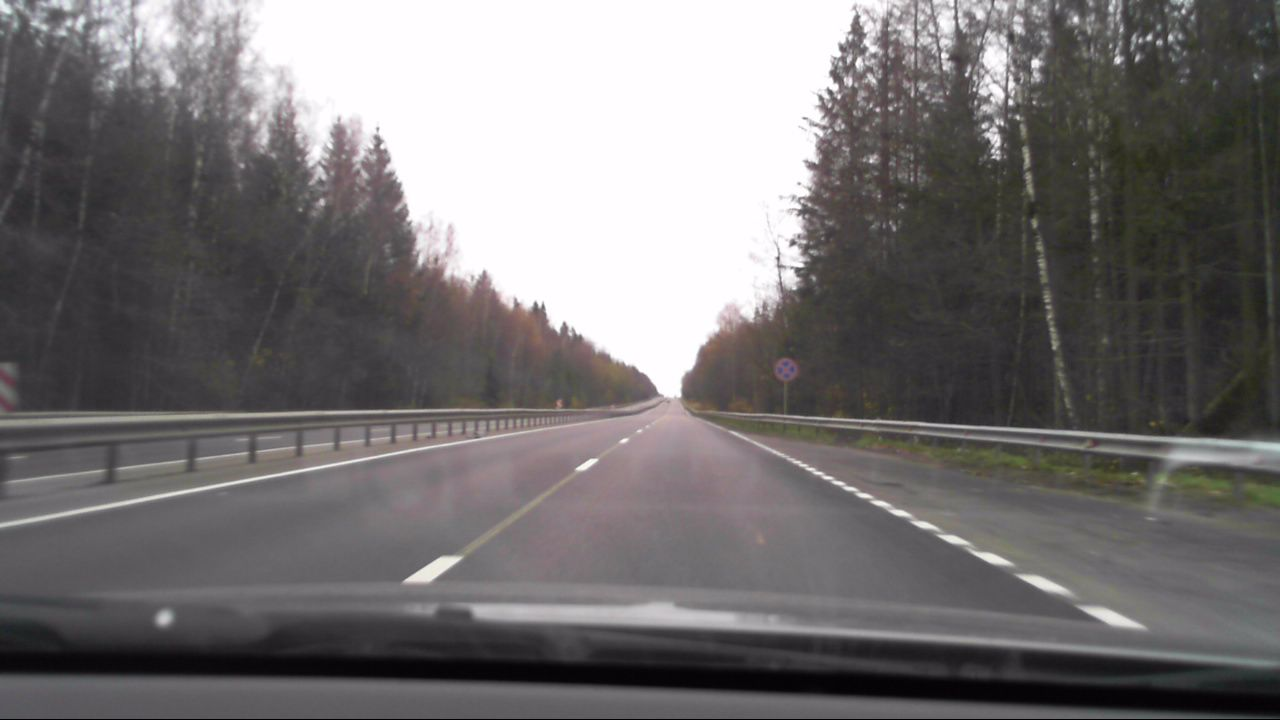No Parking: (774, 357, 798, 384)
